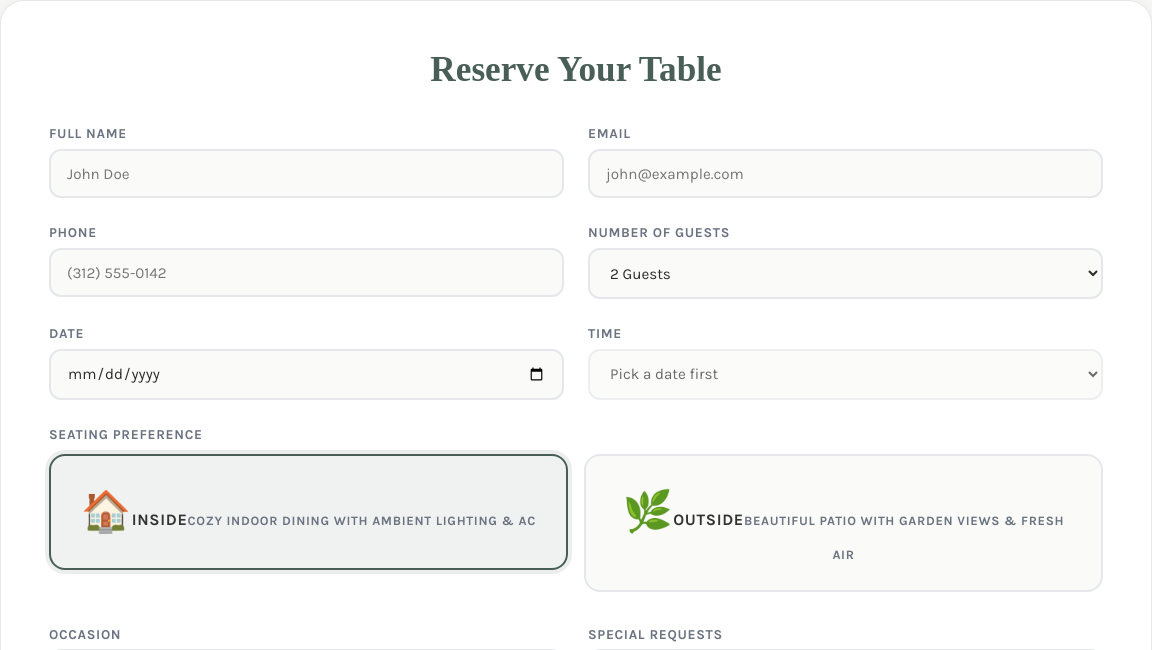
Test case: BookingForm › shows error when name is less than 3 characters
In the field labelled "Full Name": [306, 174] box [49,149,564,198], type "Jo"
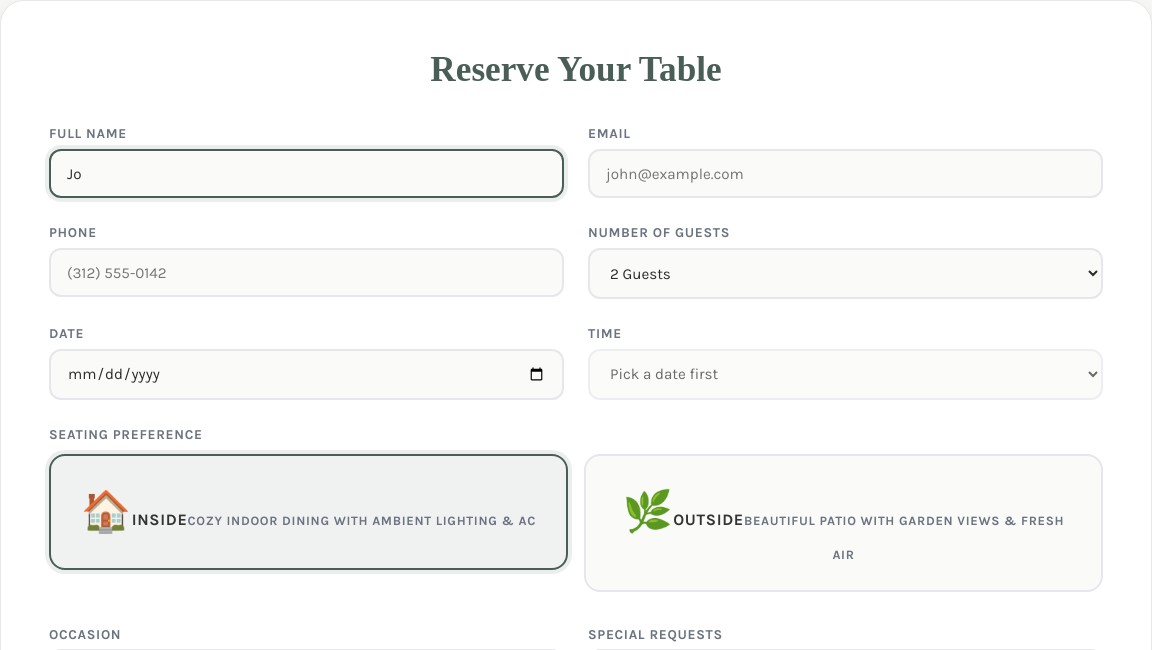
Leave the field labelled "Full Name", box [49,149,564,198]
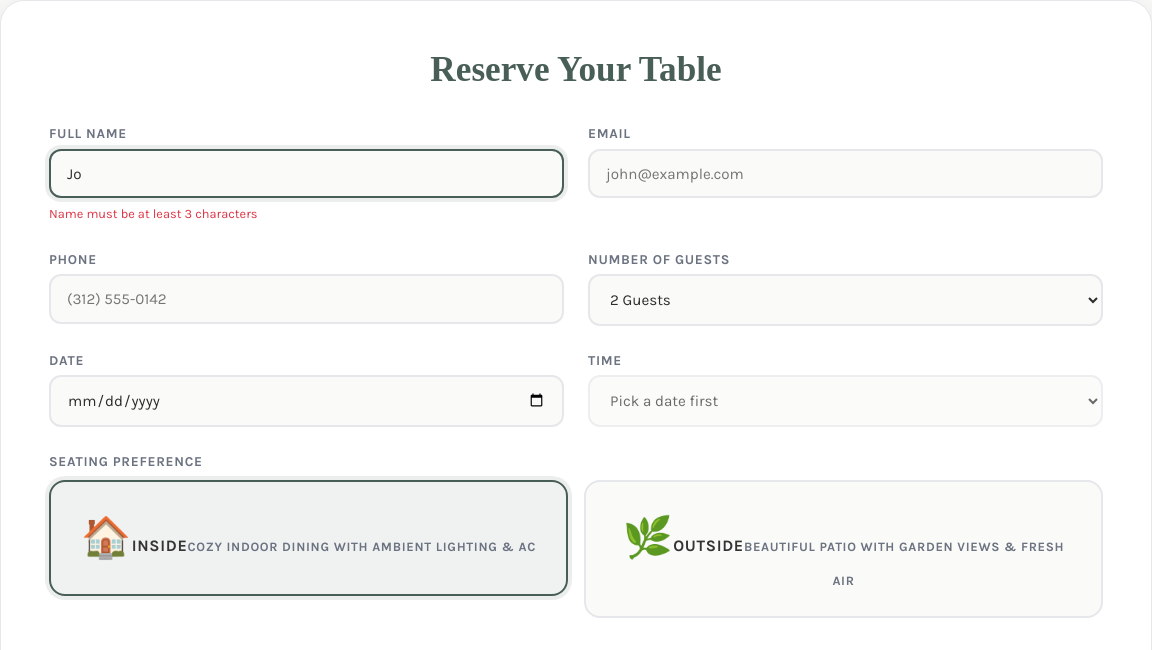
Check: the text "Name must be at least 3 characters" is shown, box [49,206,258,221]
